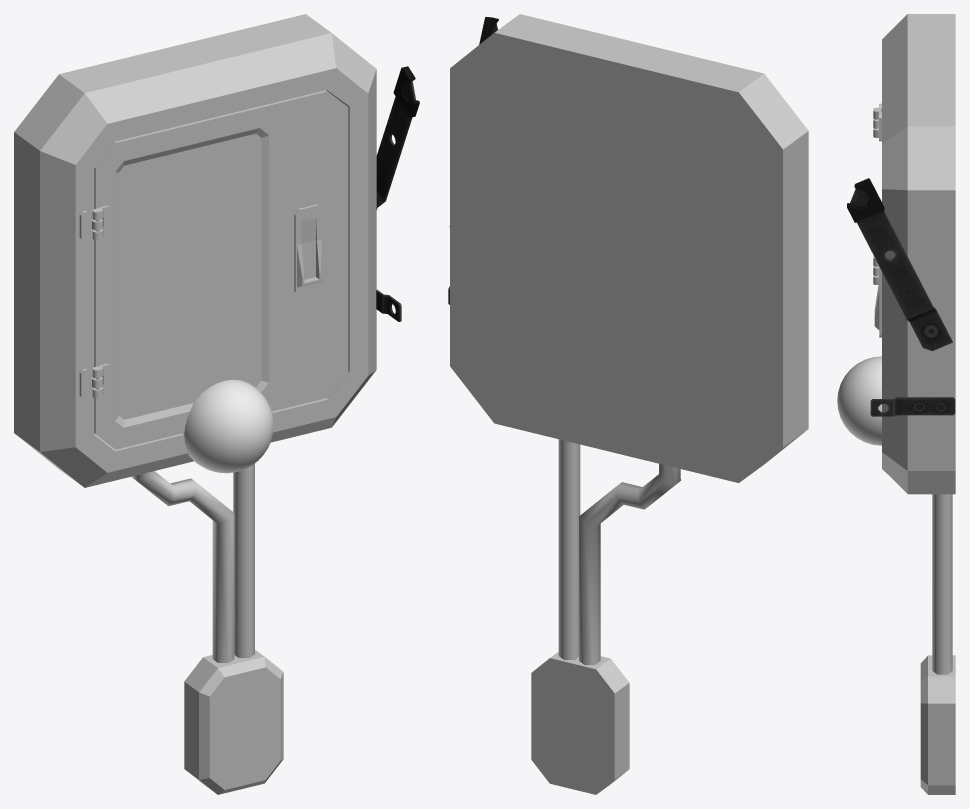
3 views of the same model, side by side, from view 1: azimuth 30°, elevation 25°; view 2: azimuth 150°, elevation 25°; view 3: azimuth 270°, elevation 25° (orthographic). The views are drawn at different scales.
Visible parts, largest first — view 1: Door, Electrical Box LOD, Conduit, frame, Handle LOD, Latch; view 2: Electrical Box LOD, Conduit; view 3: Electrical Box LOD, Conduit, Handle LOD, frame, Lock LOD, Latch.
Boxes of the visible parts, box(x1,y1,x2,y2) form: Door: box(94, 90, 348, 449); Electrical Box LOD: box(14, 14, 376, 487); Conduit: box(132, 463, 283, 794); frame: box(183, 380, 273, 473); Handle LOD: box(376, 66, 419, 209); Latch: box(294, 204, 322, 295); Electrical Box LOD: box(450, 14, 808, 482); Conduit: box(531, 439, 680, 794); Electrical Box LOD: box(882, 14, 955, 494); Conduit: box(920, 494, 955, 794); Handle LOD: box(847, 178, 952, 350); frame: box(837, 356, 881, 445); Lock LOD: box(870, 397, 955, 416); Latch: box(874, 267, 881, 337).
Size of the model in its own units: 18.39 by 37.7 by 5.83.
